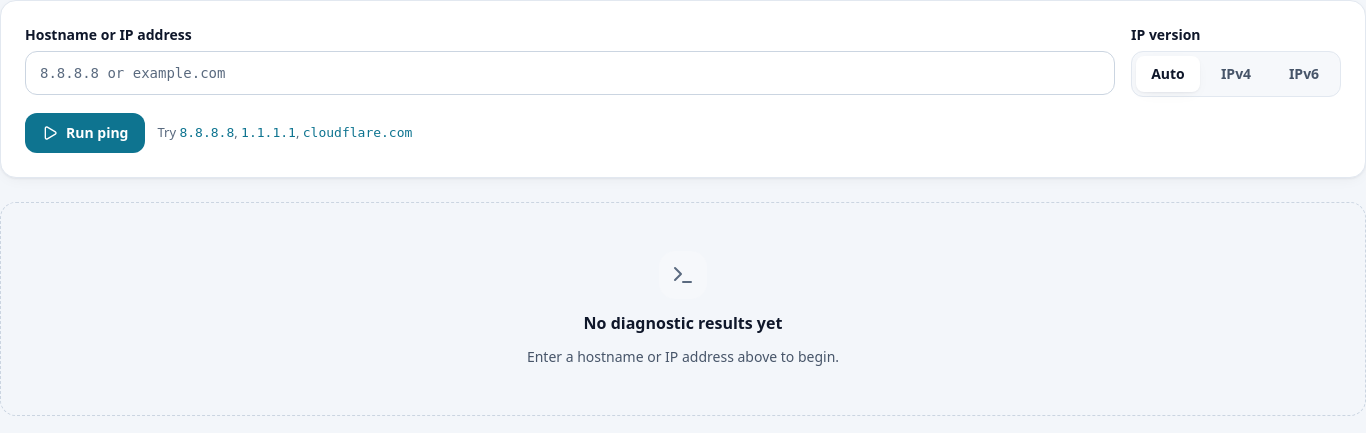
Test: DiagnosticRunner › shows the server message and request ID for a blocked destination
The image size is (1366, 433).
Type "8.8.8.8" into the field labelled "Hostname or IP address".
click(570, 73); type("8.8.8.8")  # box [25, 51, 1115, 95]
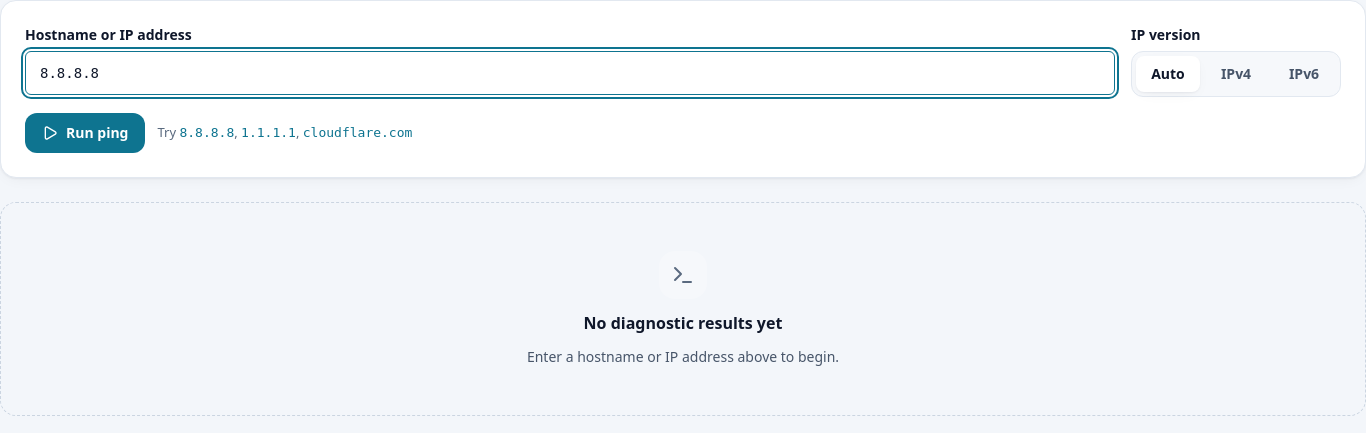
Click the button "Run ping".
click(85, 133)  # box [25, 113, 146, 153]
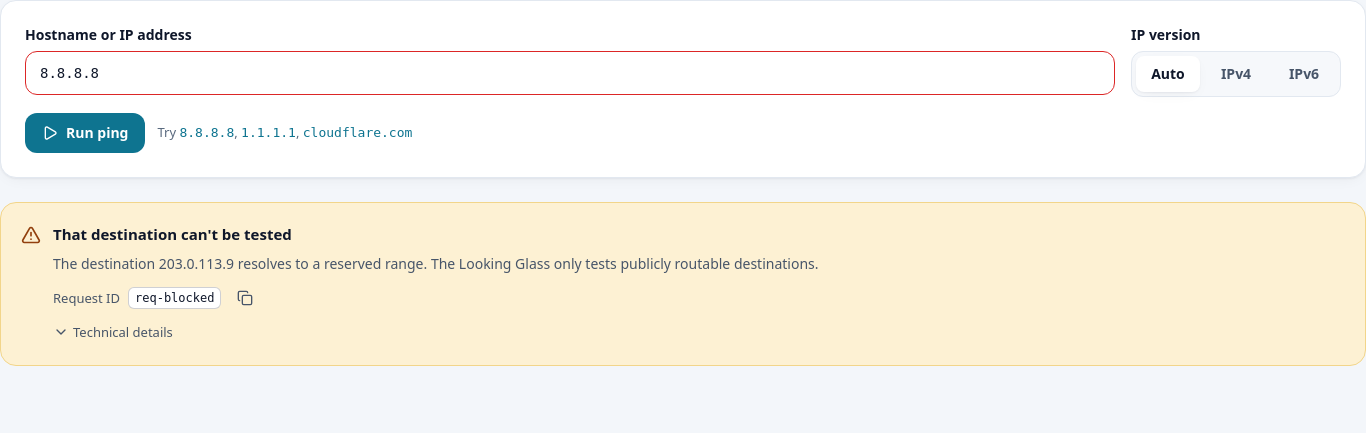
Check: the message shows "That destination can't be tested", box [53, 224, 292, 244]
Check: the message shows "resolves to a reserved range", box [53, 254, 818, 273]
Check: the message shows "req-blocked", box [135, 291, 214, 305]
